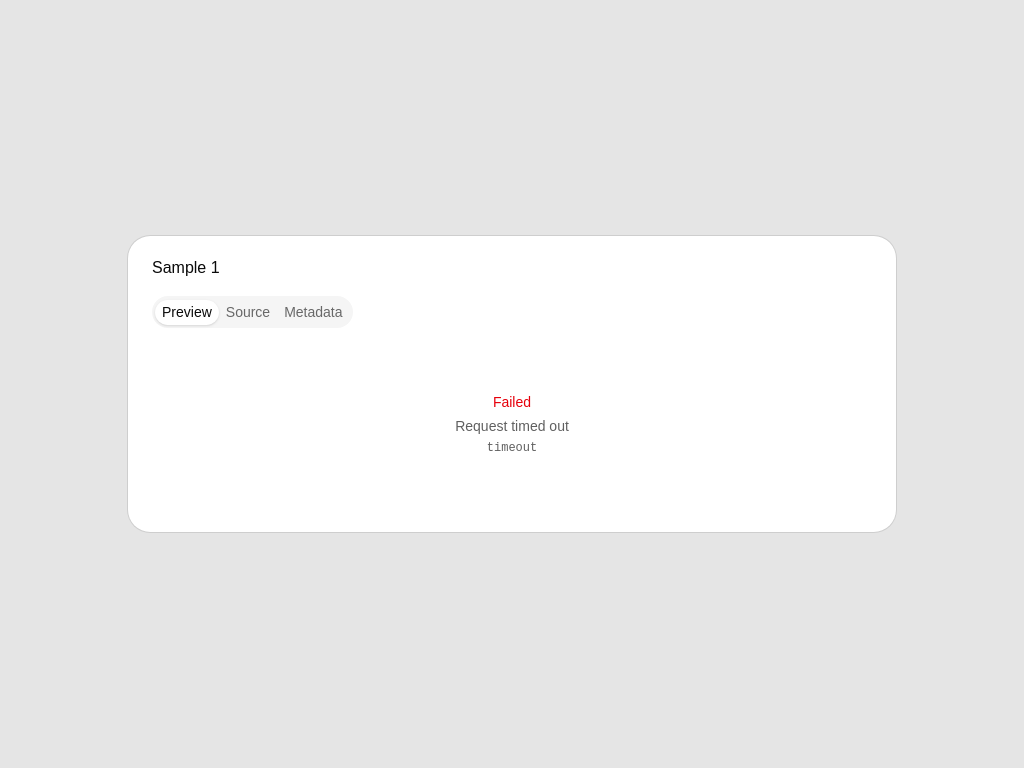
SampleDetailDialog › public viewers read an existing annotation in the metadata tab
What coordinates should you click on to do the following:
click the tab "Metadata"
I would click on:
 (313, 312)
Its box is 277,300 -> 350,324.
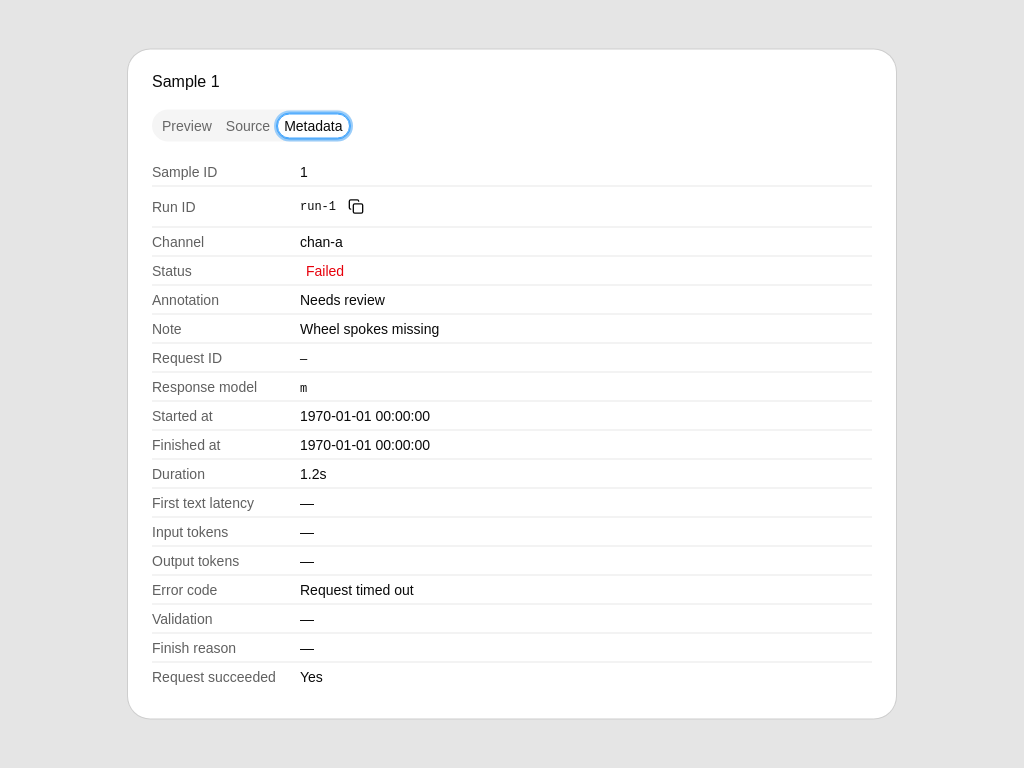
Check: the text "Needs review" is shown, box 300,292 -> 385,308
Check: the text "Wheel spokes missing" is shown, box 300,320 -> 439,336
